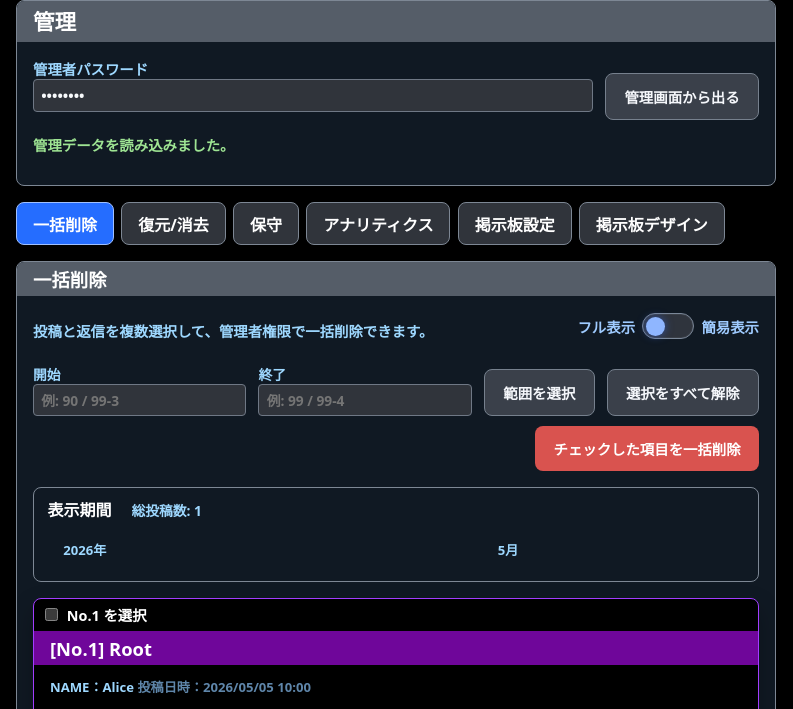
AdminPage › shows the requested admin tab order and can exit the admin screen
This screenshot has width=793, height=709.
expect the buttons read "一括削除", "復元/消去", "保守", "アナリティクス", "掲示板設定", "掲示板デザイン", in this order: met, box [16,202,114,245]; [121,202,226,245]; [233,202,299,245]; [306,202,450,245]; [458,202,572,245]; [579,202,725,245]
Click the button "管理画面から出る": (682, 96) [605,72,759,120]
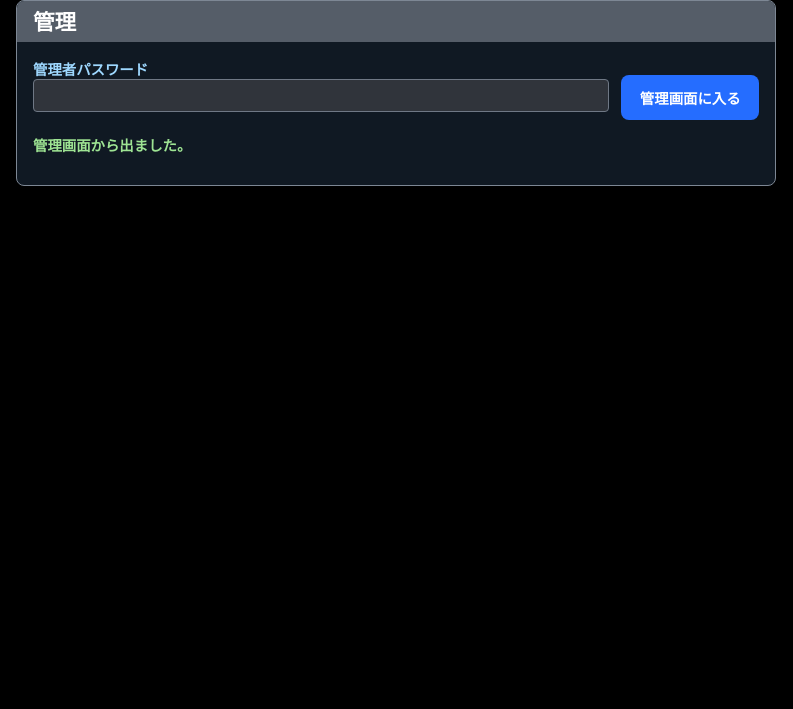
expect the button "管理画面に入る" is shown: met, box [622,74,759,120]
expect the navigation bar "管理メニュー" is gone: met
